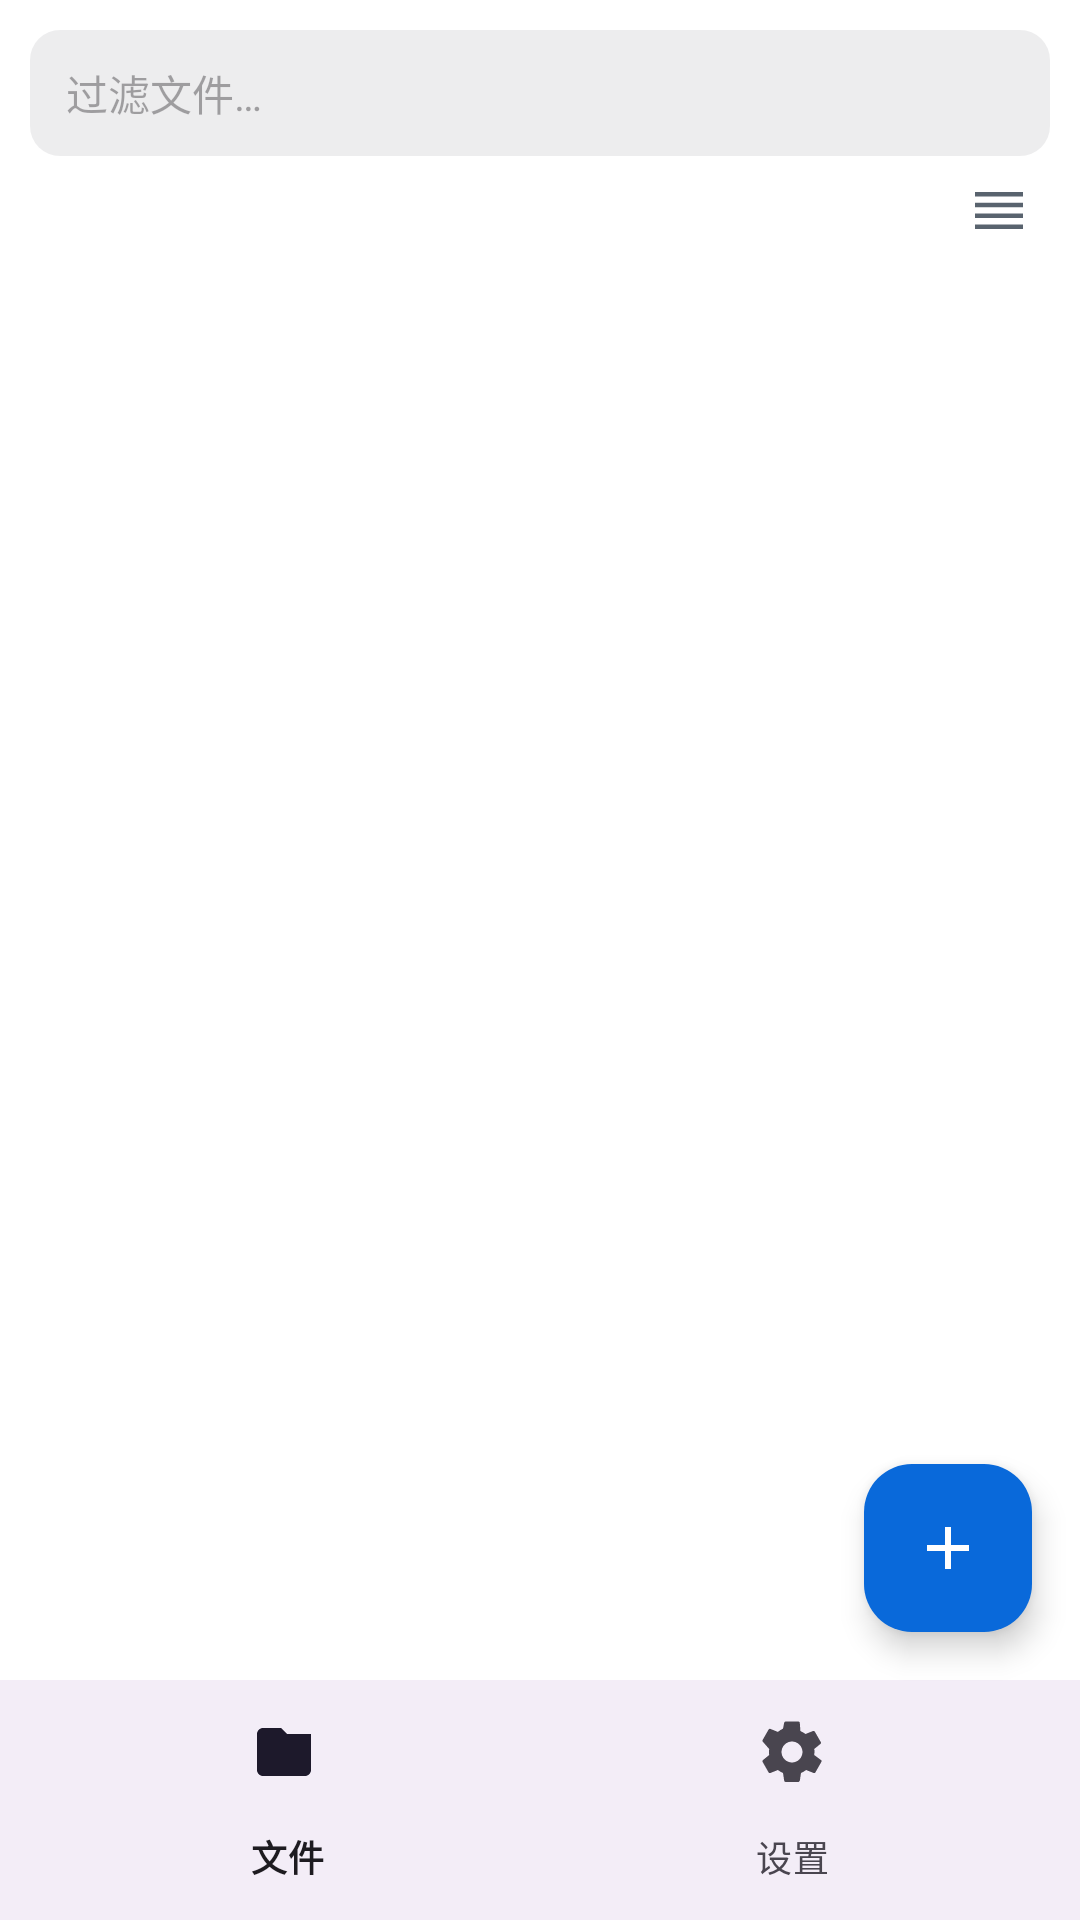

Point at icon controls on the screen. Image size 1080w x 1920h, points as (x,y).
切换分组显示: (999,210)
新建: (948,1548)
